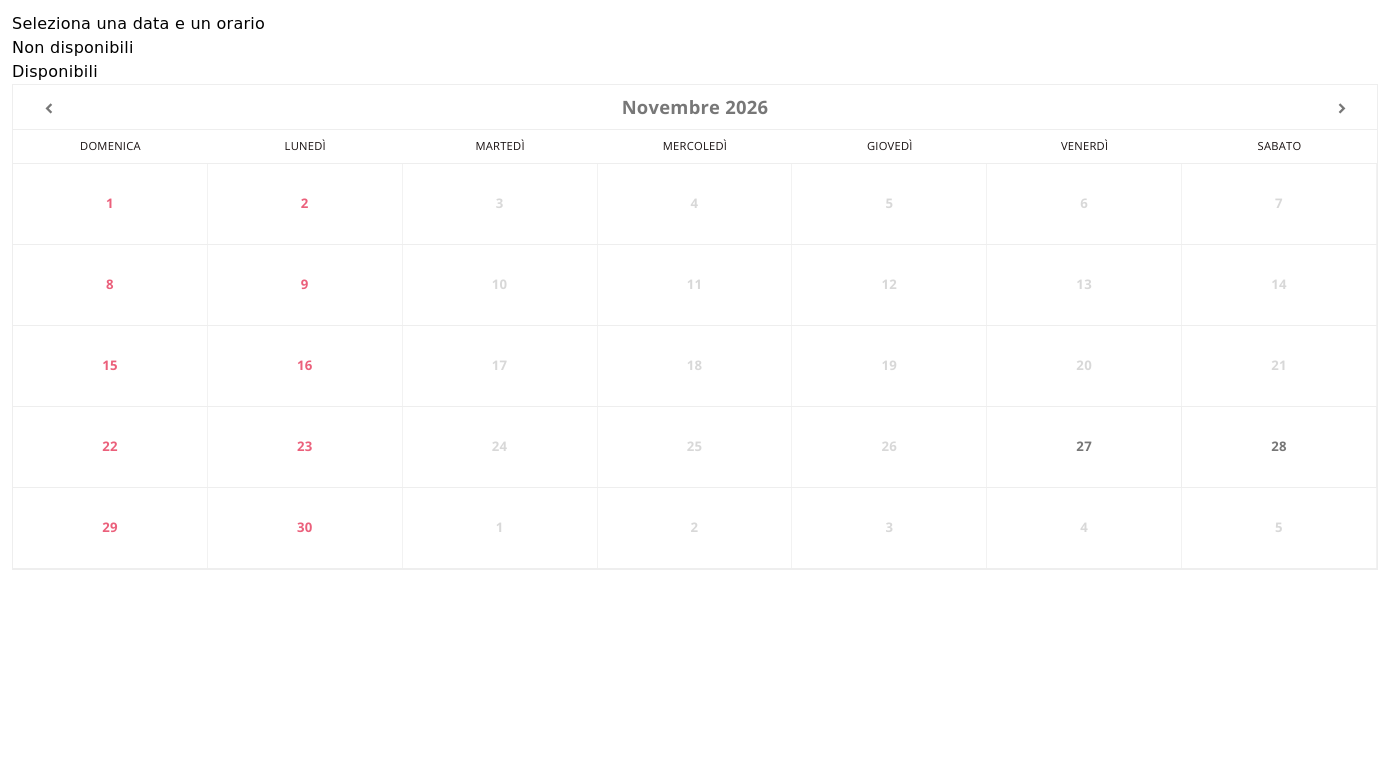
special openings in the public calendar › updates a reopened holiday and returns it to closed when revoked
The width and height of the screenshot is (1390, 780).
What coordinates should you click on to do the following:
click the 2nd button "chevron_right"
I would click on:
 (1341, 109)
Its box is [1332,100,1351,118].
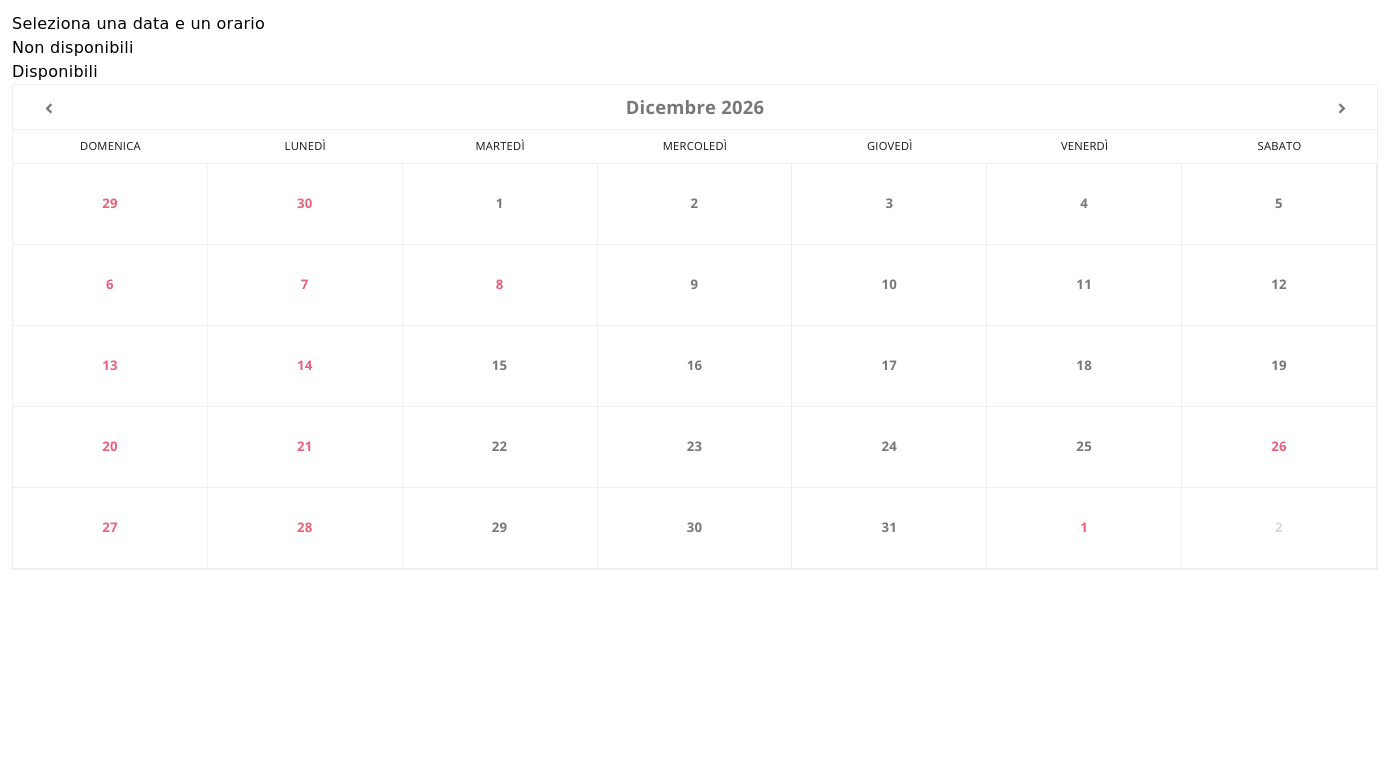
Expected: the button with class "t25-12" is enabled
What coordinates should you click on to do the following:
click the button with class "t25-12"
I would click on:
 (1085, 447)
Its box is [987,407,1182,487].
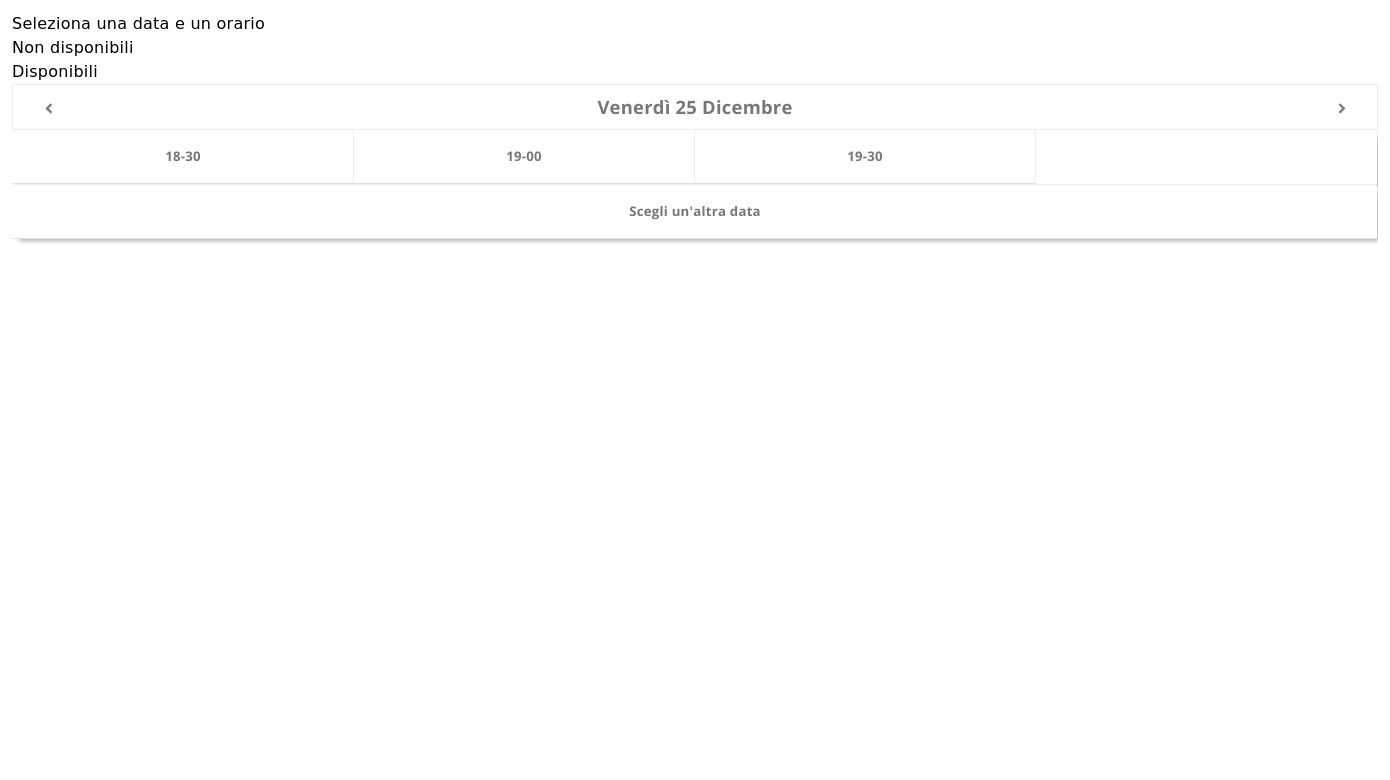
What coordinates should you click on to do the following:
click the button "19-30"
I would click on:
 (866, 157)
Its box is [695,130,1036,184].
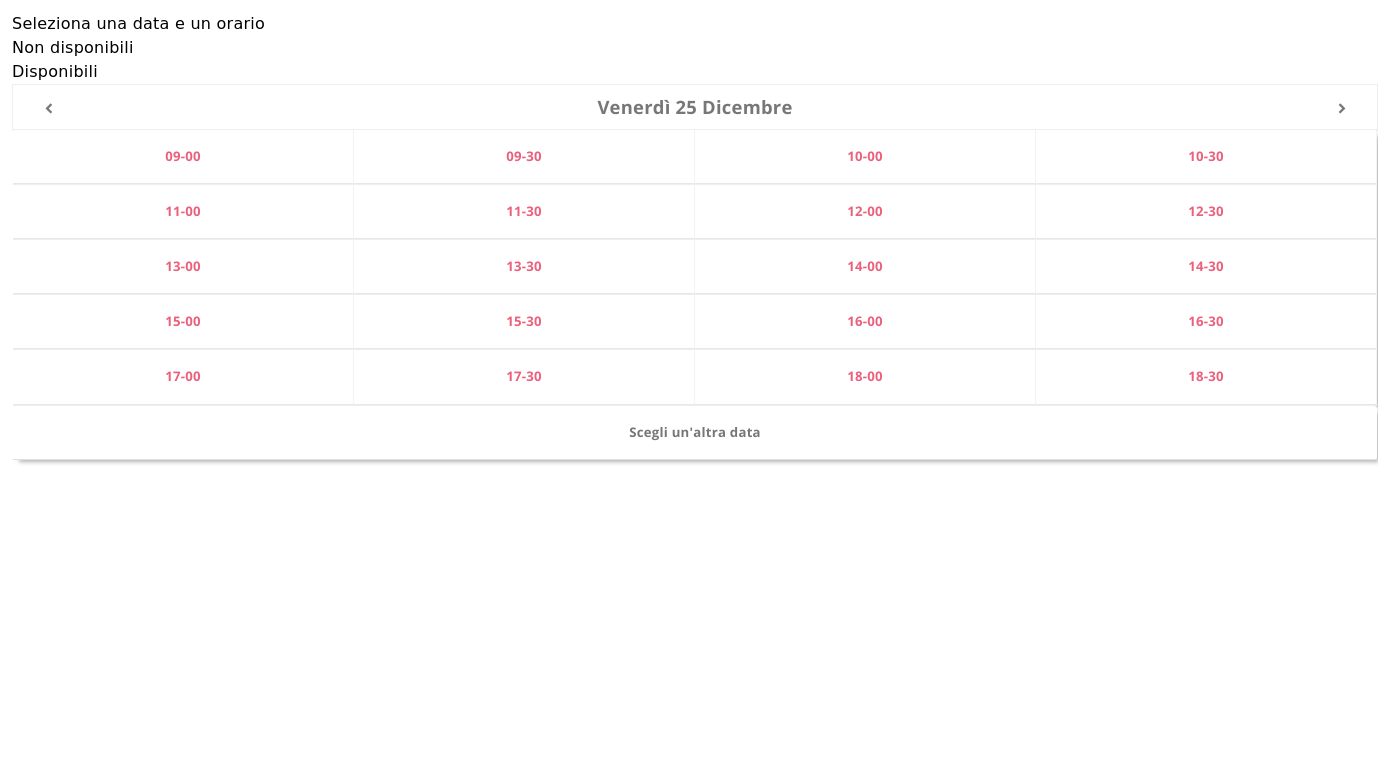
What coordinates should you click on to do the following:
click the button "Scegli un'altra data"
I would click on:
 (695, 433)
Its box is [13,406,1377,460].
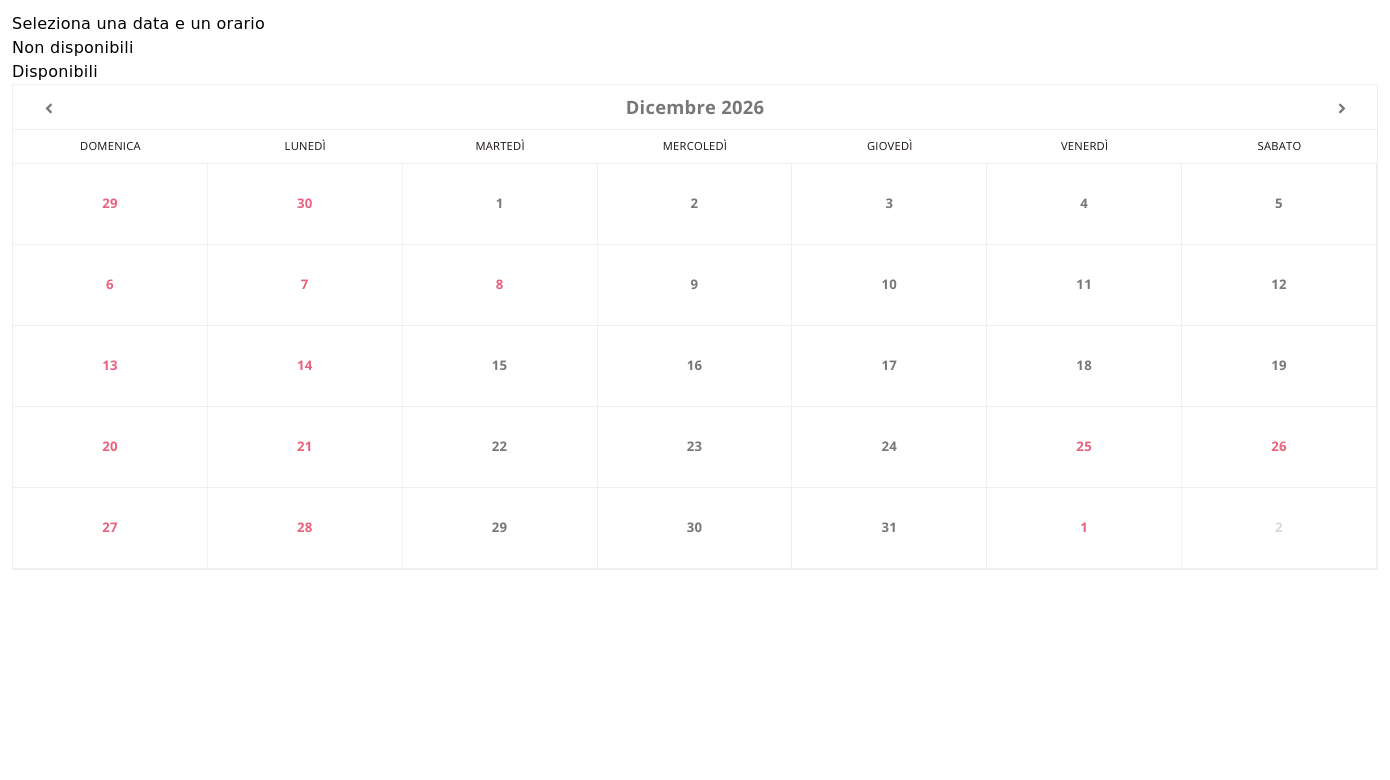
Expected: the button with class "t25-12" is disabled, [987,407,1182,487]
